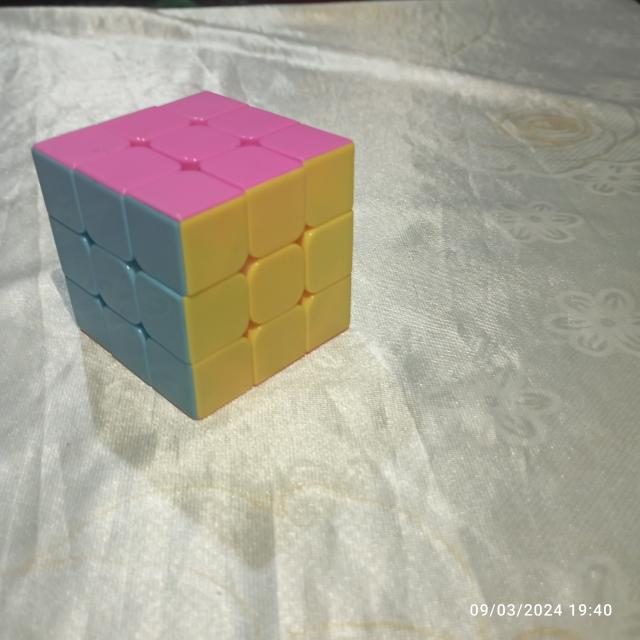Rub: (29, 85, 358, 421)
